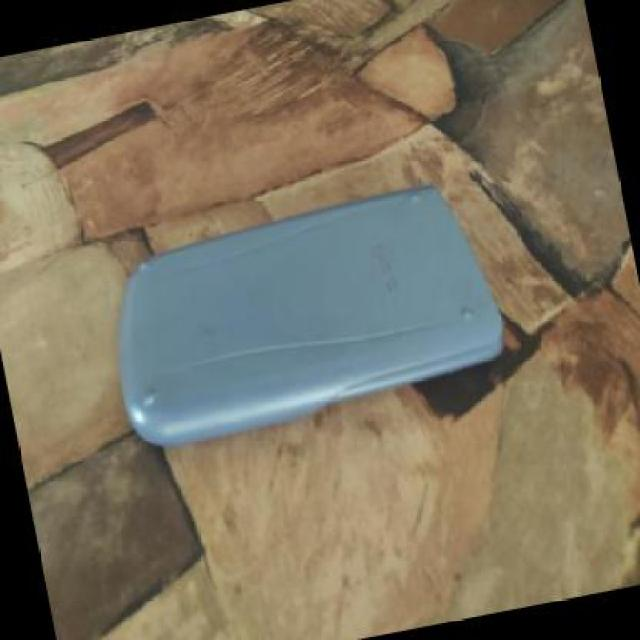Calculator: (85, 170, 522, 455)
